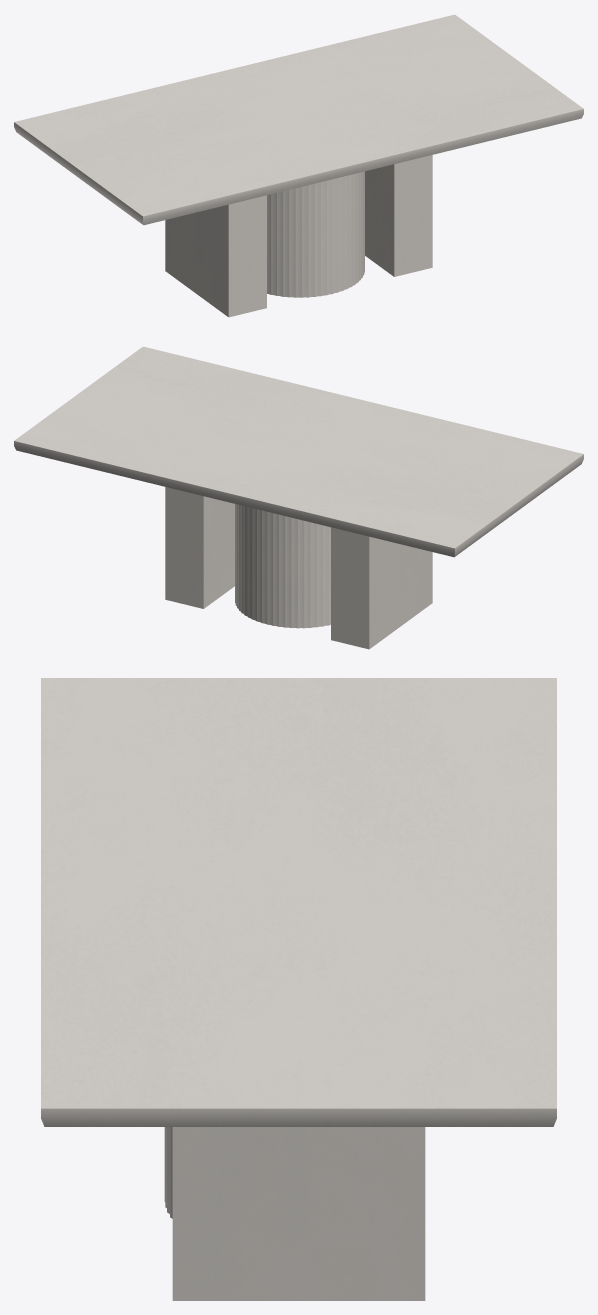
Rendered from pearlwhite_recta_facet_ridge.glb.
The picture shows the model from 3 angles, top to bottom: view 1: azimuth 30°, elevation 25°; view 2: azimuth 150°, elevation 25°; view 3: azimuth 270°, elevation 25°; orthographic projection. The views are drawn at different scales.
Visible parts, largest first — view 1: tabletop_recta_facet.002, tableleg_ridge.019, tableleg_ripple.019; view 2: tabletop_recta_facet.002, tableleg_ridge.019, tableleg_ripple.019; view 3: tabletop_recta_facet.002, tableleg_ridge.019.
Boxes of the visible parts, x1=… form: tabletop_recta_facet.002: x1=14, y1=14, x2=583, y2=225; tableleg_ridge.019: x1=165, y1=155, x2=432, y2=317; tableleg_ripple.019: x1=267, y1=171, x2=364, y2=297; tabletop_recta_facet.002: x1=14, y1=346, x2=583, y2=557; tableleg_ridge.019: x1=165, y1=487, x2=432, y2=649; tableleg_ripple.019: x1=235, y1=504, x2=330, y2=628; tabletop_recta_facet.002: x1=41, y1=678, x2=556, y2=1126; tableleg_ridge.019: x1=172, y1=1127, x2=425, y2=1300.
Bounding box in the file's own units: 7.5 × 2.5 × 3.8.
1 material, 1 textured.
